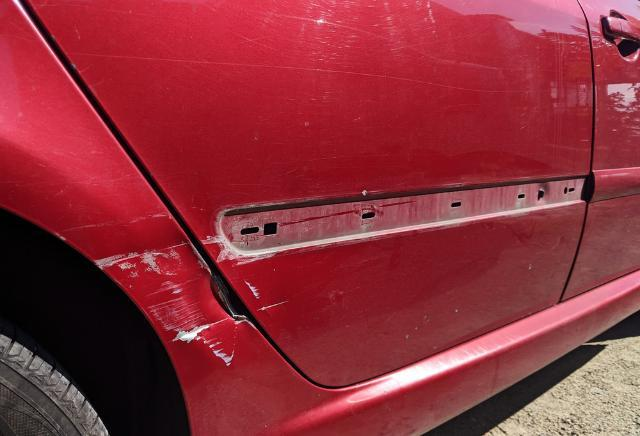scratch: (102, 241, 234, 360), (200, 231, 284, 315)
